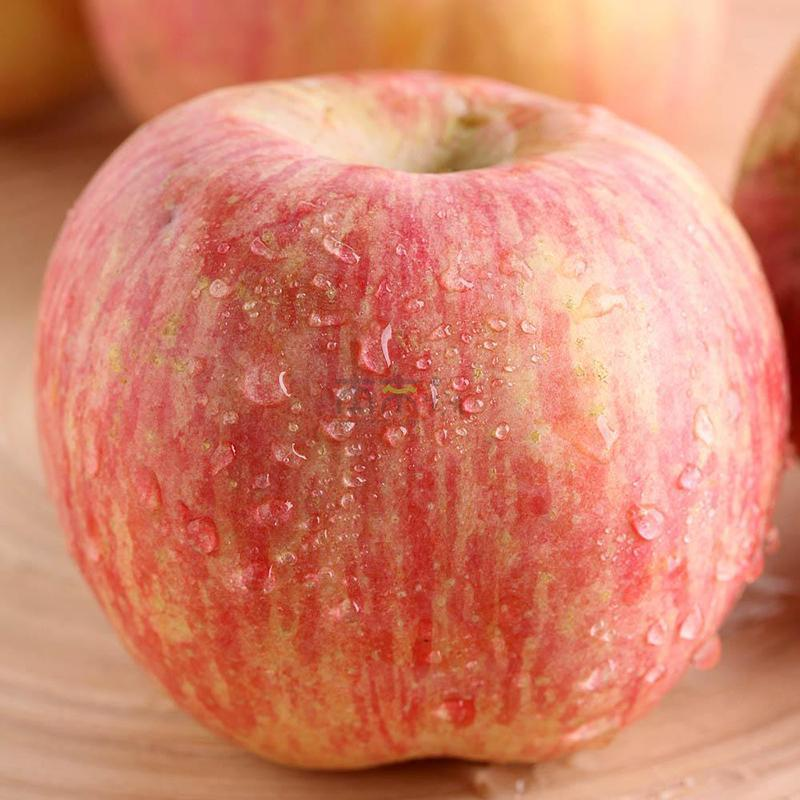apple: (22, 47, 787, 776)
